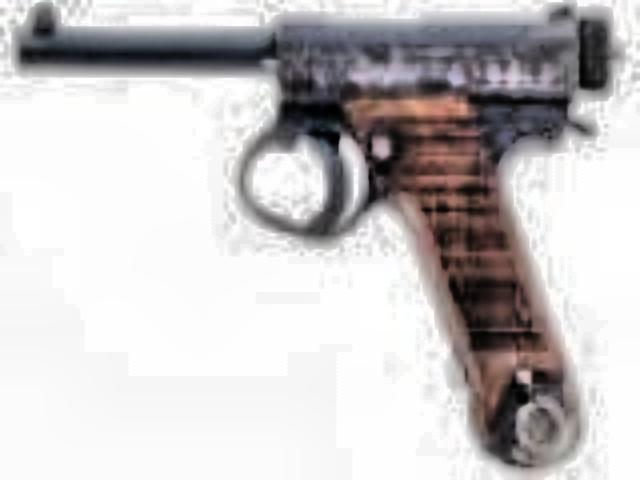pistol: (16, 0, 612, 472)
